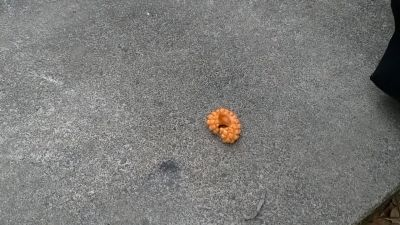eggs: (205, 106, 243, 144)
